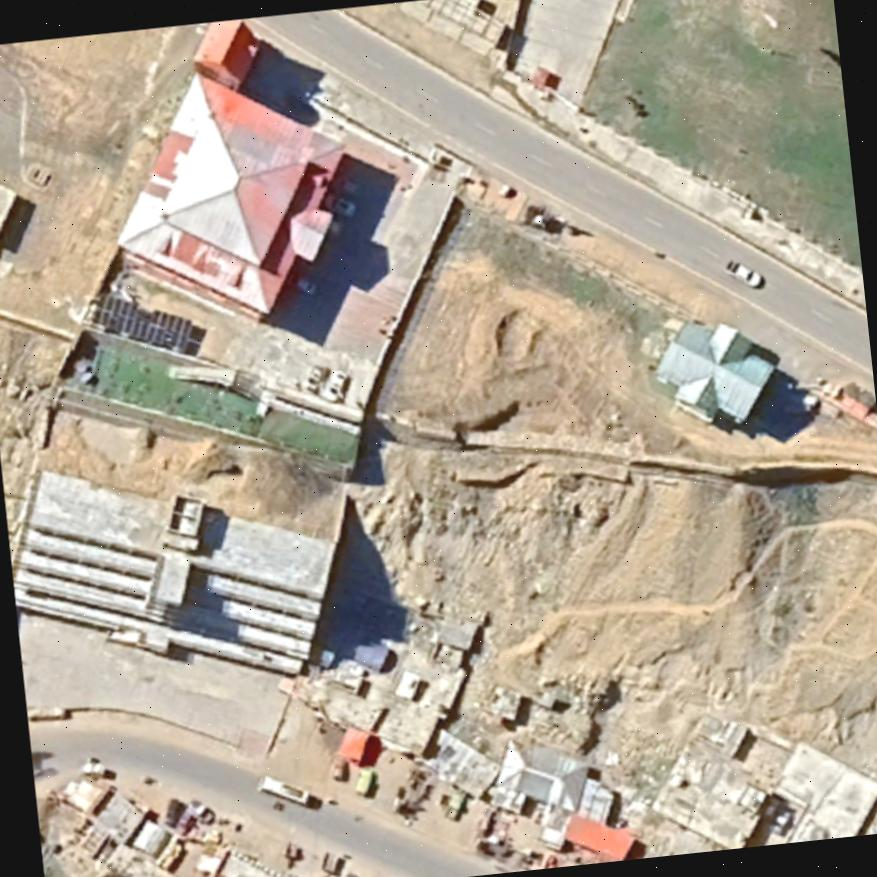Solarpanel: (87, 285, 204, 354)
